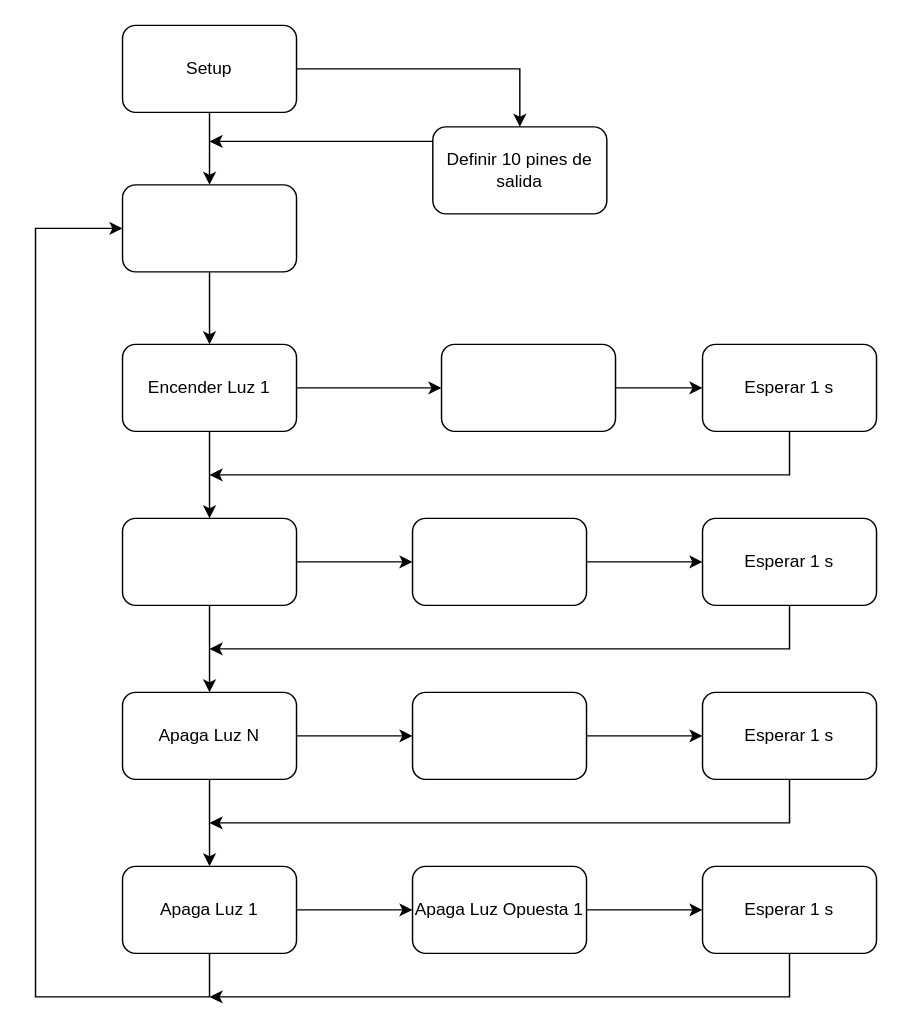
Image size: 902x1034. Some labels were removed from this diagram. The shapes that lost their labels are listed below. From the top down, each one's centre as x and y in pixels, then its label:
At [209,227]: "Loop".
At [528,387]: "Encender Luz Opuesta".
At [209,561]: "Encender Luz N".
At [499,561]: "Encender Luz Opuesta N".
At [499,735]: "Apagar Luz Opuesta N".
